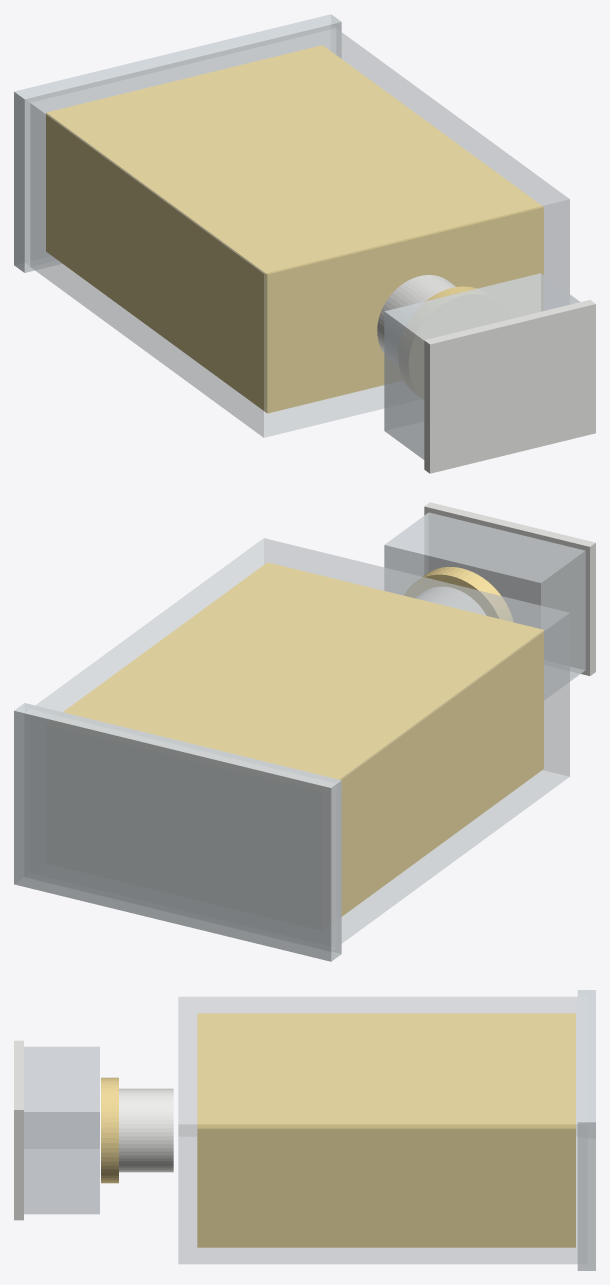
File: chanel_realista.glb
The picture shows the model from 3 angles, top to bottom: view 1: azimuth 30°, elevation 25°; view 2: azimuth 150°, elevation 25°; view 3: azimuth 270°, elevation 25°; orthographic projection. The views are drawn at different scales.
Parts seen in each view (by area): view 1: glass_outer, golden_liquid, cap_top, glass_base, crystal_cap, gold_band, neck; view 2: glass_outer, golden_liquid, glass_base, crystal_cap, cap_top, gold_band, neck; view 3: glass_outer, golden_liquid, crystal_cap, glass_base, neck, gold_band, cap_top.
Boxes of the visible parts, bbox=[...] form: glass_outer: bbox=[30, 28, 569, 437]; golden_liquid: bbox=[46, 45, 543, 413]; cap_top: bbox=[424, 300, 595, 473]; glass_base: bbox=[14, 14, 341, 272]; crystal_cap: bbox=[384, 273, 579, 459]; gold_band: bbox=[398, 286, 510, 399]; neck: bbox=[377, 275, 455, 364]; glass_outer: bbox=[35, 538, 569, 943]; golden_liquid: bbox=[63, 562, 543, 916]; glass_base: bbox=[14, 703, 341, 961]; crystal_cap: bbox=[384, 512, 585, 699]; cap_top: bbox=[424, 502, 595, 675]; gold_band: bbox=[404, 567, 513, 621]; neck: bbox=[415, 587, 485, 615]; glass_outer: bbox=[178, 996, 577, 1264]; golden_liquid: bbox=[197, 1013, 575, 1247]; crystal_cap: bbox=[24, 1046, 99, 1214]; glass_base: bbox=[577, 990, 595, 1270]; neck: bbox=[119, 1088, 173, 1172]; gold_band: bbox=[101, 1077, 118, 1183]; cap_top: bbox=[14, 1040, 23, 1220].
Bounding box in the file's own units: 1.72 × 0.9 × 3.2.
